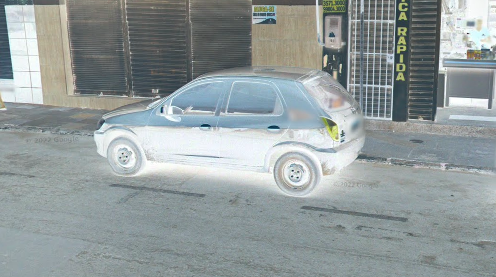car: (90, 63, 368, 203)
